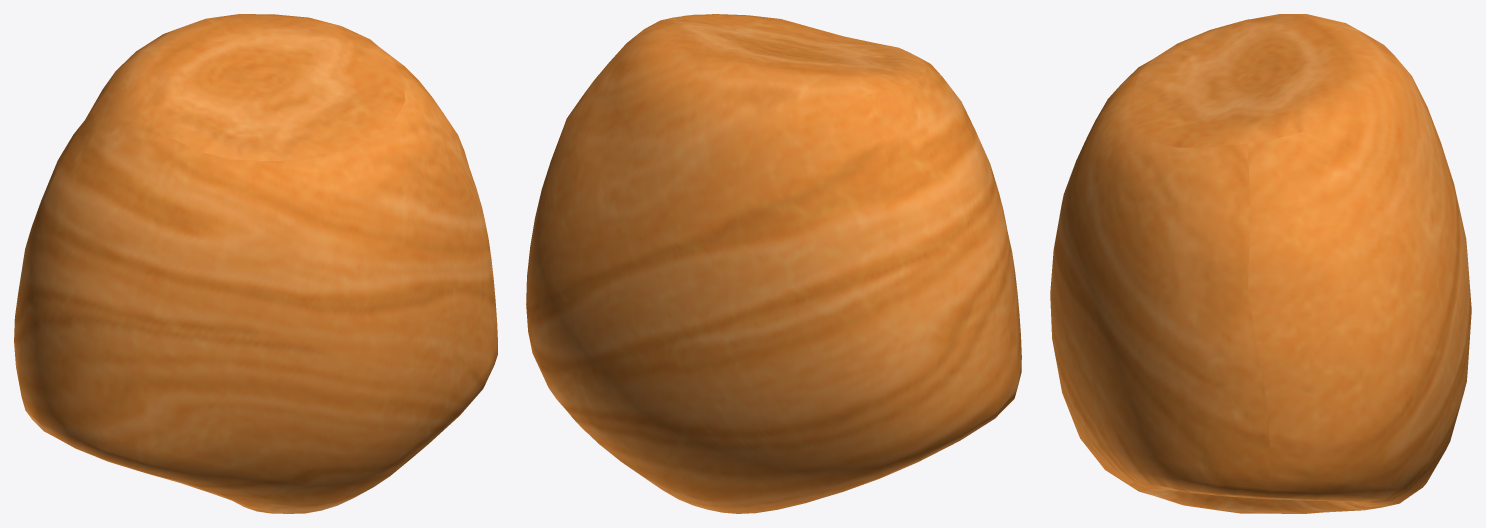
File: Wood_Pelvis.FBX
The picture shows the model from 3 angles, left to right: view 1: azimuth 30°, elevation 25°; view 2: azimuth 150°, elevation 25°; view 3: azimuth 270°, elevation 25°; orthographic projection. The views are drawn at different scales.
Parts seen in each view (by area): view 1: bottom_C01; view 2: bottom_C01; view 3: bottom_C01.
Part boxes in pixels (box(x1,y1,x2,y2)): bottom_C01: box(14, 14, 497, 513); bottom_C01: box(526, 14, 1021, 513); bottom_C01: box(1050, 14, 1471, 513).
Size of the model in its own units: 27.83 by 26.58 by 22.57.
Materials: 1 (1 with a texture image).
